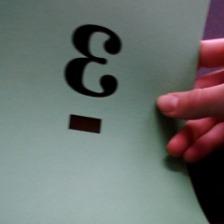green3: (58, 21, 128, 137)
